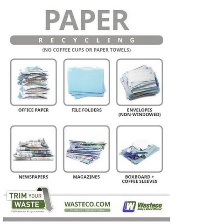book: (118, 130, 160, 169), (117, 62, 160, 100), (12, 59, 50, 101), (64, 63, 107, 99), (63, 135, 109, 164)
news_paper: (11, 134, 54, 163)
